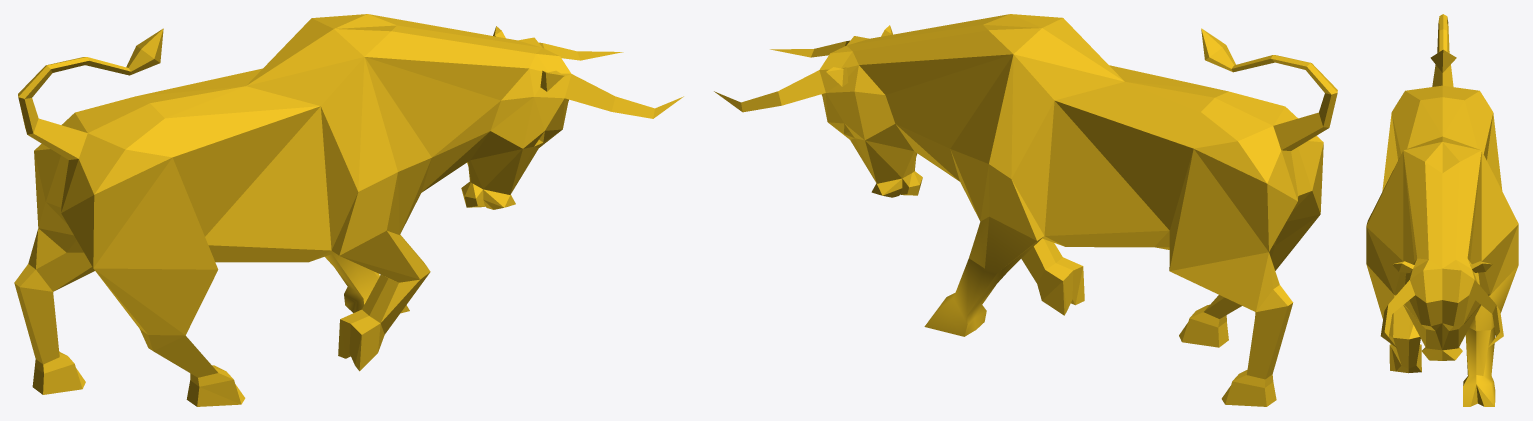
Rendered from niu.dae.
3 renders of one model, left to right at view 1: azimuth 30°, elevation 25°; view 2: azimuth 150°, elevation 25°; view 3: azimuth 270°, elevation 25°, orthographic. The views are drawn at different scales.
Parts seen in each view (by area): view 1: Default; view 2: Default; view 3: Default.
Part boxes in pixels (left/top/right/bottom): Default: left=14, top=14, right=683, bottom=406; Default: left=714, top=14, right=1337, bottom=406; Default: left=1366, top=14, right=1518, bottom=406.
Size of the model in its own units: 2856 by 1533 by 802.
Materials: 1 (1 with a texture image).
